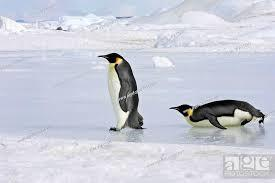emporer: (94, 50, 154, 140), (167, 99, 271, 134)
